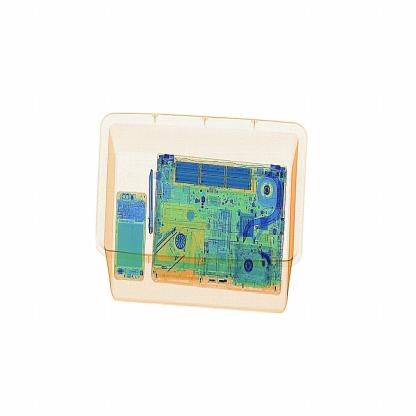pliers: (142, 164, 160, 238)
